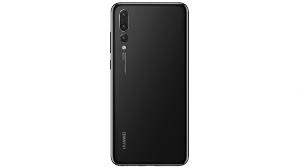huawei: (109, 1, 192, 168)
